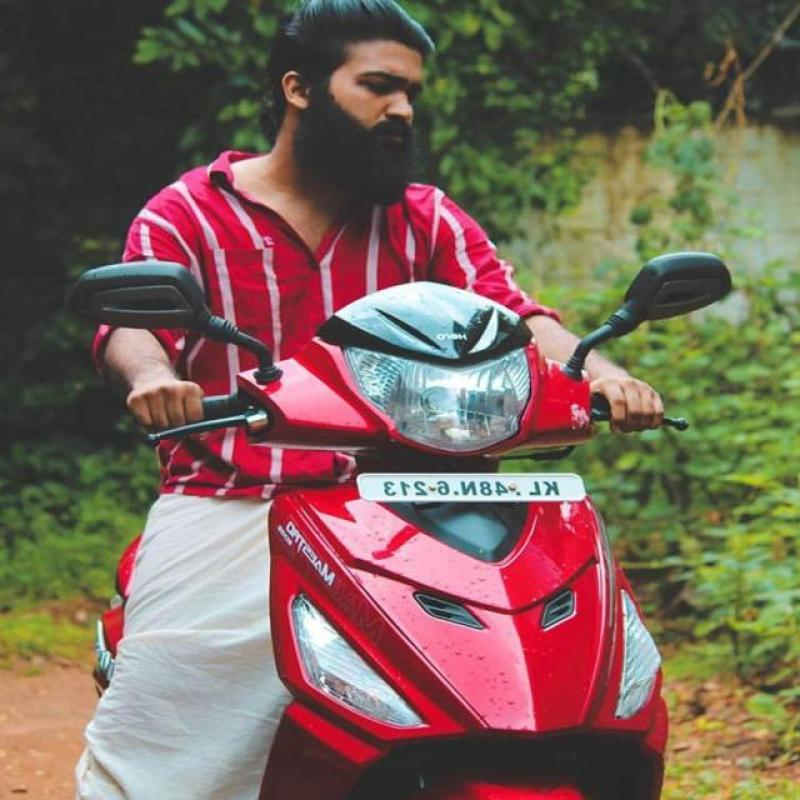nohelmet: (270, 7, 456, 197)
